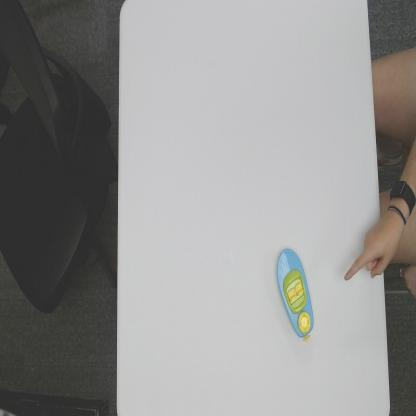Boat: (275, 245, 316, 345)
Hand: (342, 217, 385, 291)
